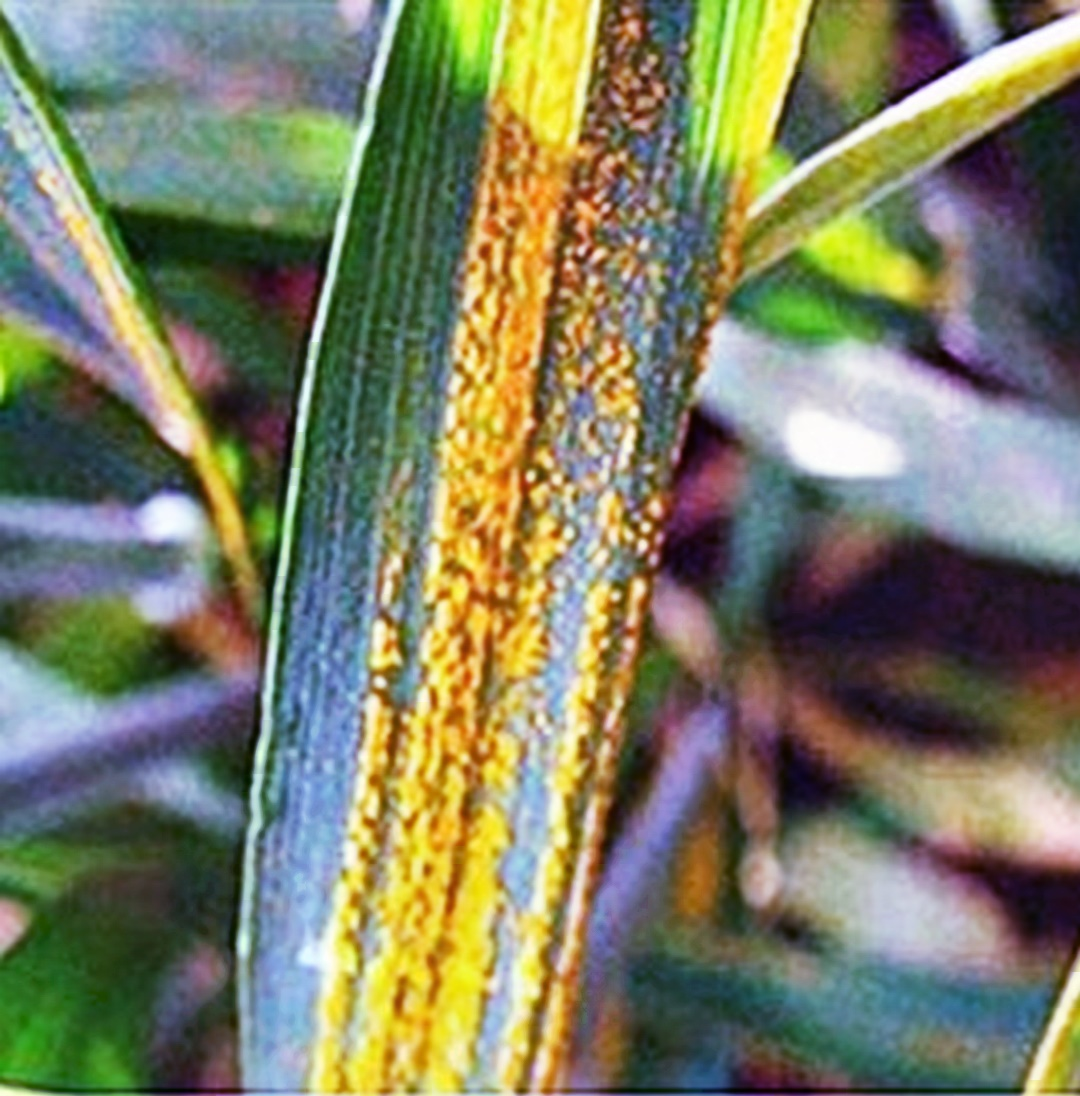Leaf Rust: (322, 127, 723, 1070)
